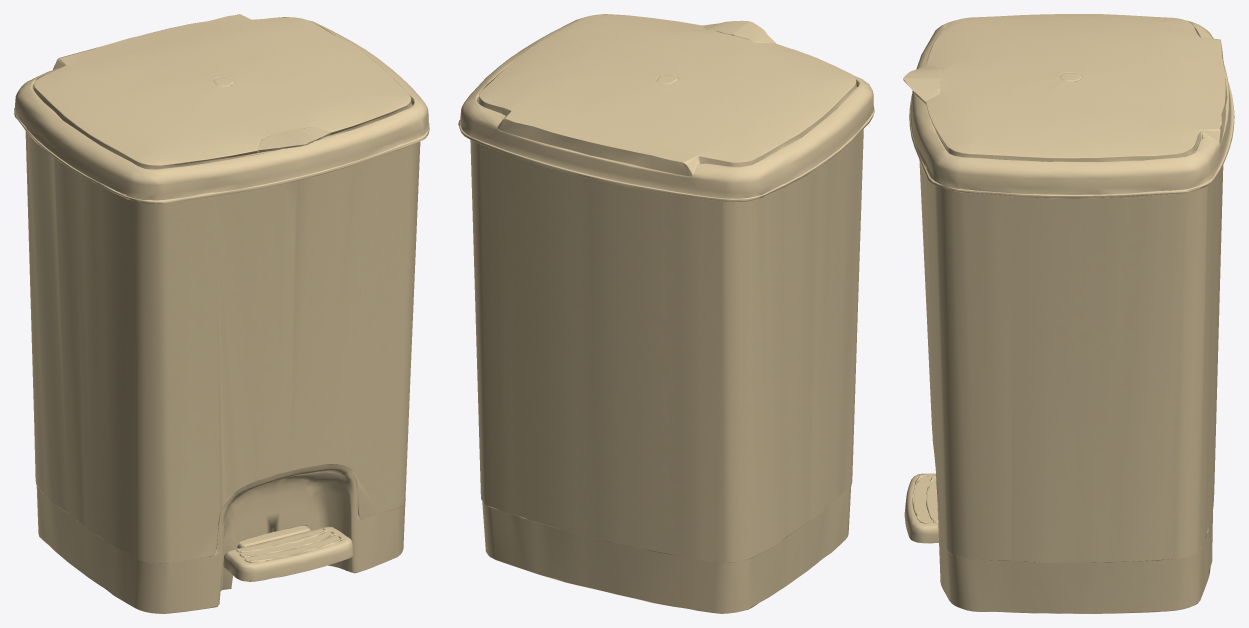
Rendered from Meshy_AI_Beige_Pedal_Trash_Bin_1020124820_texture.glb.
3 renders of one model, left to right at view 1: azimuth 30°, elevation 25°; view 2: azimuth 150°, elevation 25°; view 3: azimuth 270°, elevation 25°, orthographic.
Size of the model in its own units: 0.7036 by 0.9512 by 0.6069.
Materials: 1 (1 with a texture image).
